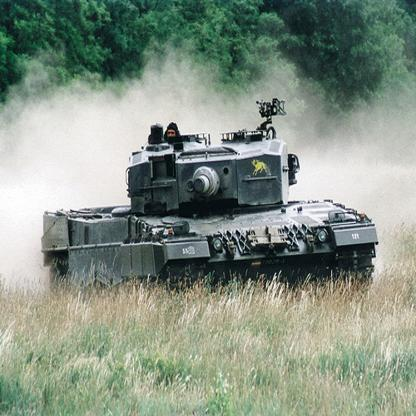Tank: (38, 121, 381, 317)
